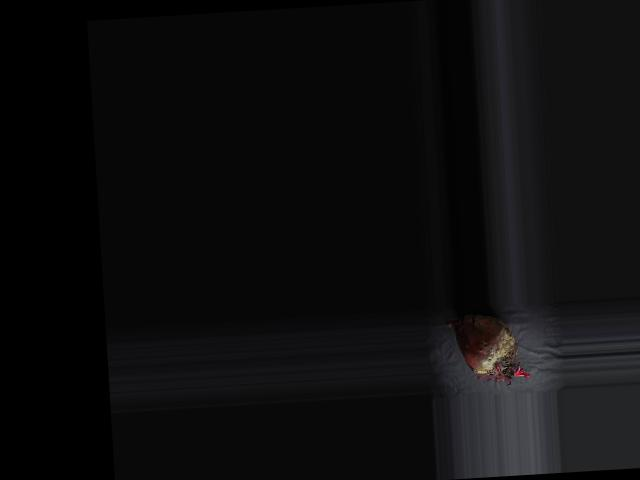beet: (442, 311, 531, 388)
